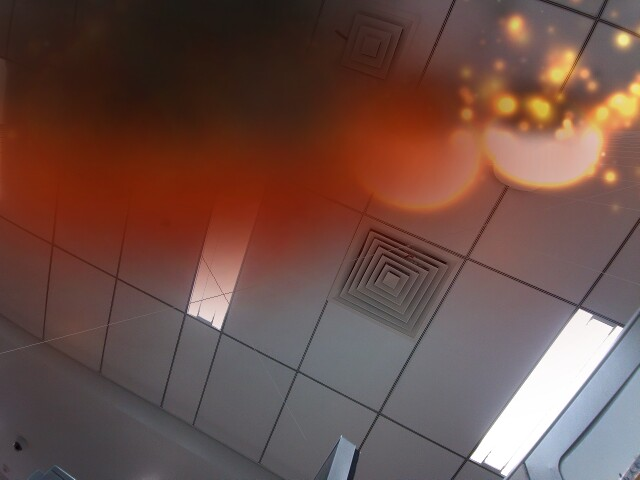fire: (353, 75, 483, 214), (491, 76, 605, 191)
